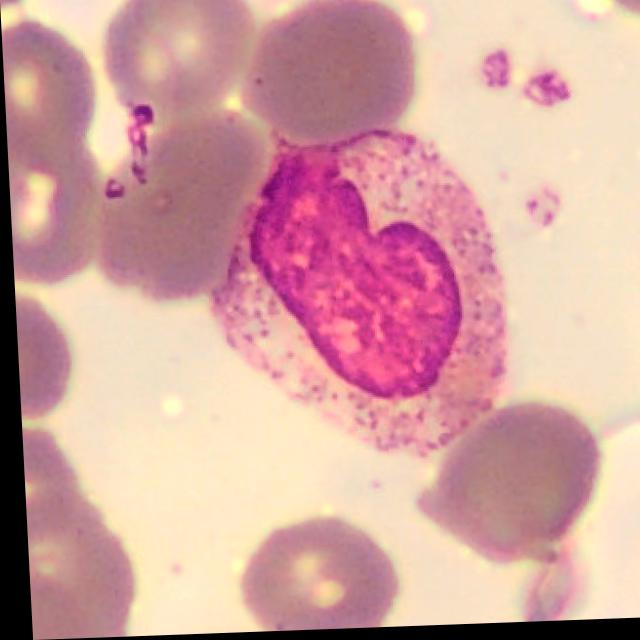Metamielocito: (205, 130, 506, 458)
